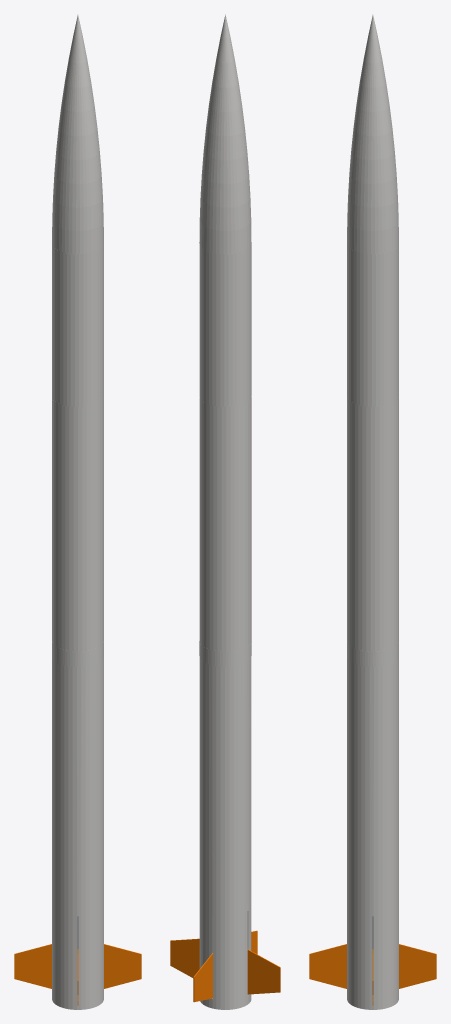
The model's file is rocket.glb.
The picture shows the model from 3 angles, left to right: view 1: azimuth 90°, elevation 25°; view 2: azimuth 150°, elevation 25°; view 3: azimuth 270°, elevation 25°; orthographic projection.
Visible parts, largest first — view 1: Body_Bot-1, Body_Top2-1, Nosecone-1, Body_Top-1, newFin-2, newFin-4, Body_Mid-1; view 2: Body_Bot-1, Body_Top2-1, Nosecone-1, Body_Top-1, newFin-3, newFin-1, Body_Mid-1, newFin-4; view 3: Body_Bot-1, Body_Top2-1, Nosecone-1, Body_Top-1, newFin-2, newFin-4, Body_Mid-1.
Part boxes in pixels (x1,y1,x2,y2): Body_Bot-1: [52, 657, 103, 1009]; Body_Top2-1: [52, 397, 103, 651]; Nosecone-1: [52, 15, 103, 254]; Body_Top-1: [52, 244, 103, 406]; newFin-2: [104, 944, 141, 988]; newFin-4: [14, 944, 51, 988]; Body_Mid-1: [52, 642, 103, 666]; Body_Bot-1: [199, 658, 251, 1009]; Body_Top2-1: [199, 396, 251, 651]; Nosecone-1: [199, 14, 251, 254]; Body_Top-1: [199, 243, 251, 406]; newFin-3: [247, 949, 280, 994]; newFin-1: [170, 938, 199, 977]; Body_Mid-1: [199, 641, 251, 666]; newFin-4: [193, 953, 212, 1002]; Body_Bot-1: [347, 657, 398, 1009]; Body_Top2-1: [347, 397, 398, 651]; Nosecone-1: [347, 15, 398, 254]; Body_Top-1: [347, 244, 398, 406]; newFin-2: [309, 944, 346, 988]; newFin-4: [399, 944, 436, 988]; Body_Mid-1: [347, 642, 398, 666].
Size of the model in its own units: 0.3826 by 3.27 by 0.3826.
